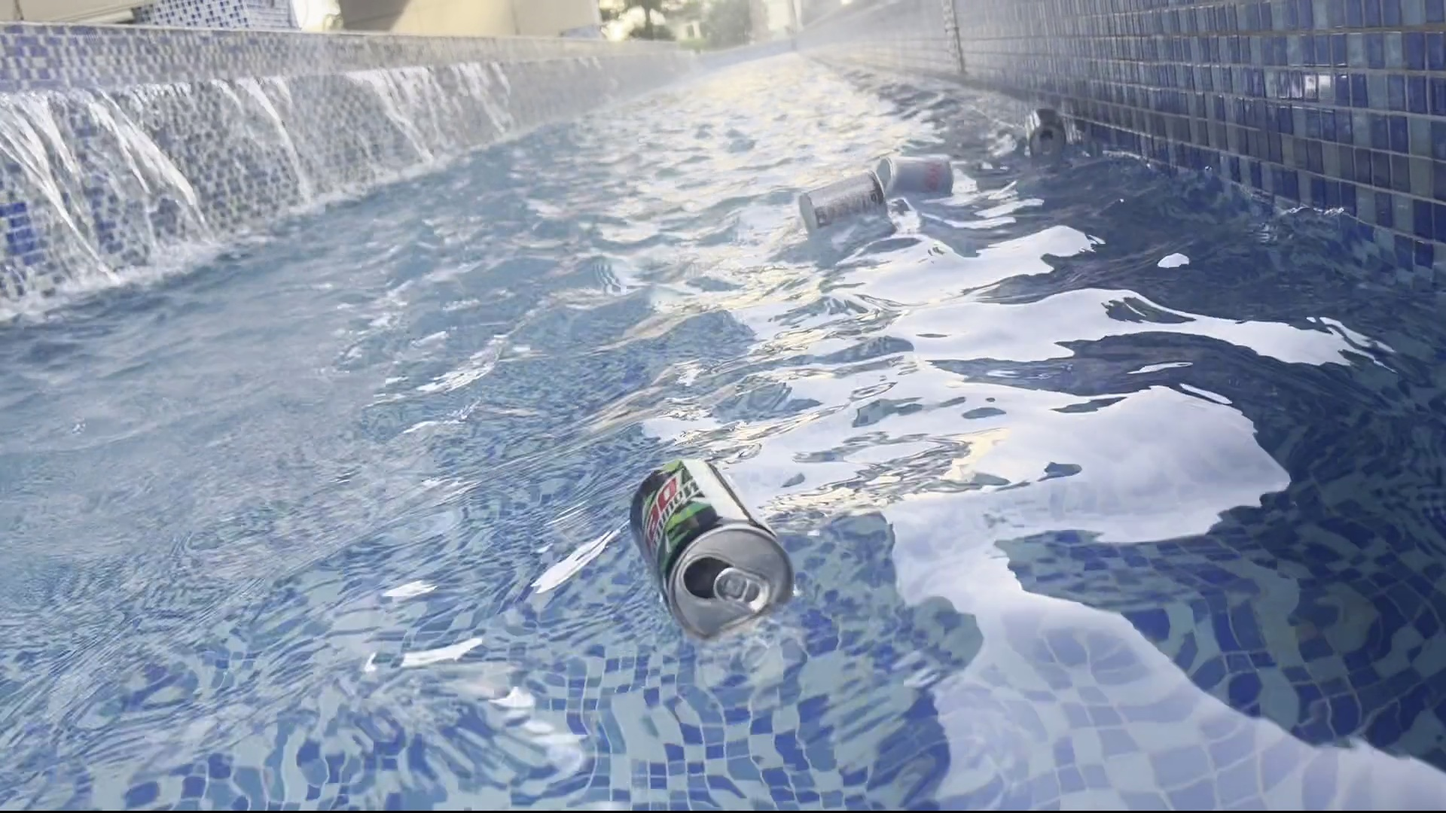debris: (617, 448, 801, 650), (795, 158, 885, 234), (872, 148, 959, 203), (1016, 100, 1070, 163)
